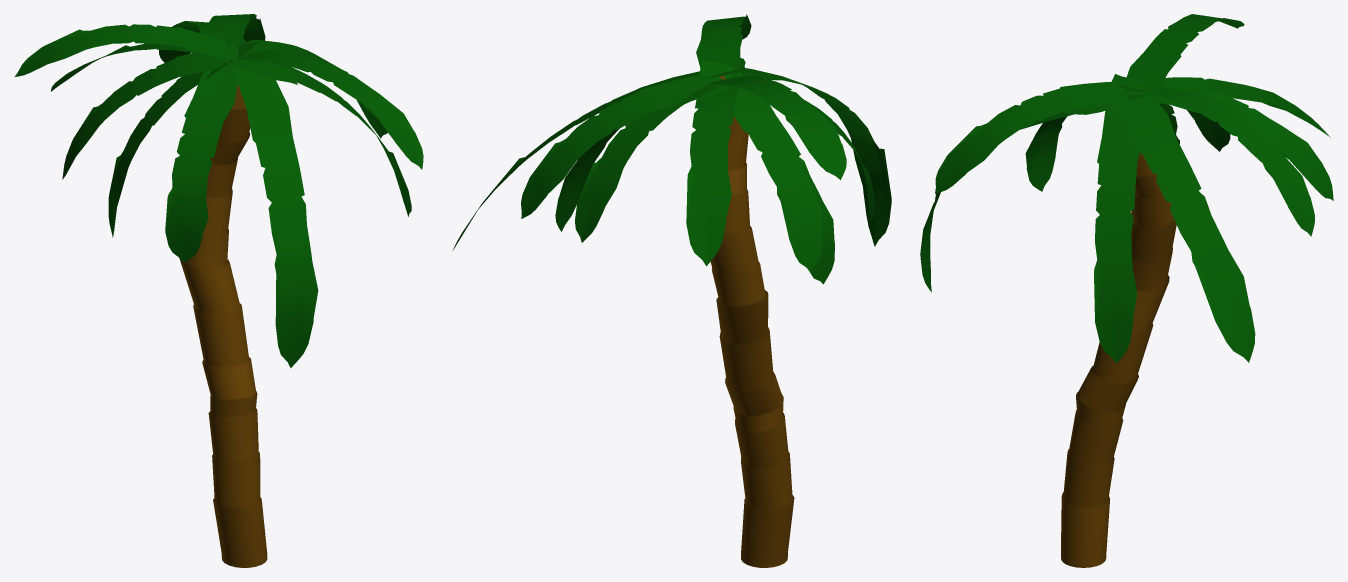
File: Palme.fbx
3 renders of one model, left to right at view 1: azimuth 30°, elevation 25°; view 2: azimuth 150°, elevation 25°; view 3: azimuth 270°, elevation 25°, orthographic. The views are drawn at different scales.
Parts seen in each view (by area): view 1: pPlane13; view 2: pPlane13; view 3: pPlane13.
Boxes of the visible parts, x1=… form: pPlane13: x1=15, y1=14, x2=423, y2=567; pPlane13: x1=453, y1=14, x2=891, y2=567; pPlane13: x1=920, y1=14, x2=1333, y2=567.
Bounding box in the file's own units: 10.95 × 14.18 × 10.65.
